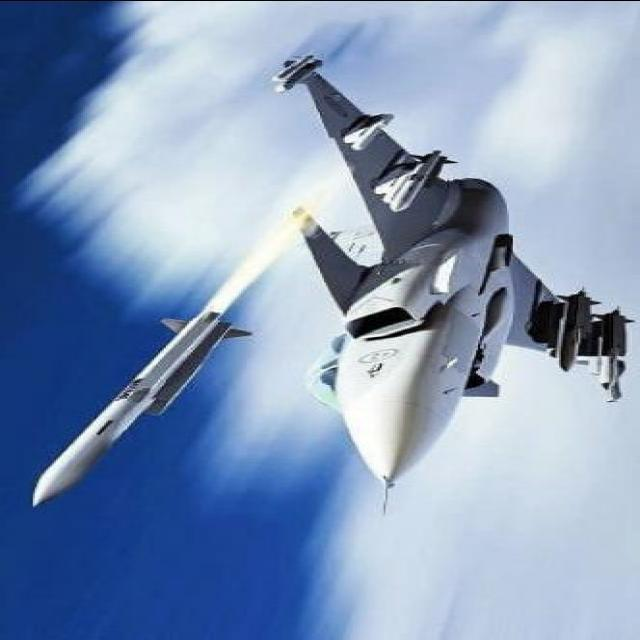missile: (32, 308, 245, 501)
